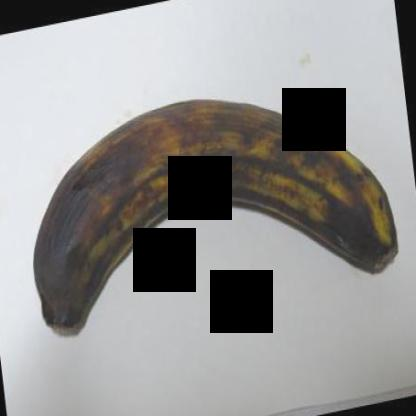overripe: (32, 91, 403, 340)
